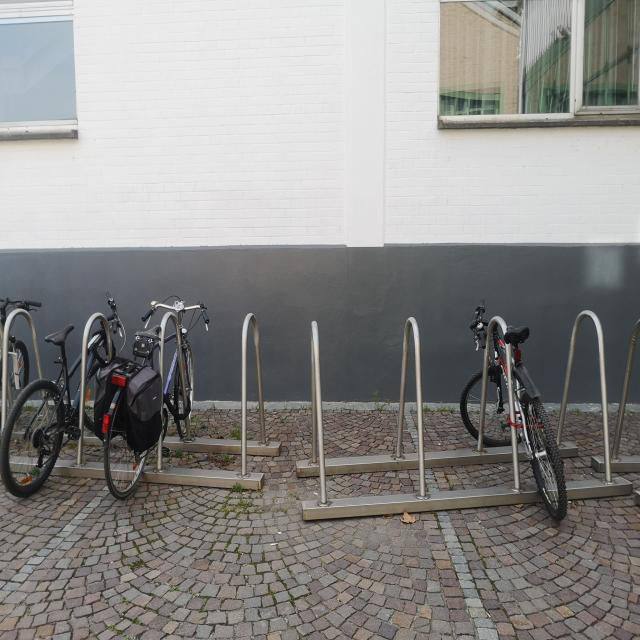Bicycle: (103, 304, 229, 508), (5, 302, 125, 508), (467, 288, 566, 532), (0, 294, 42, 384)
